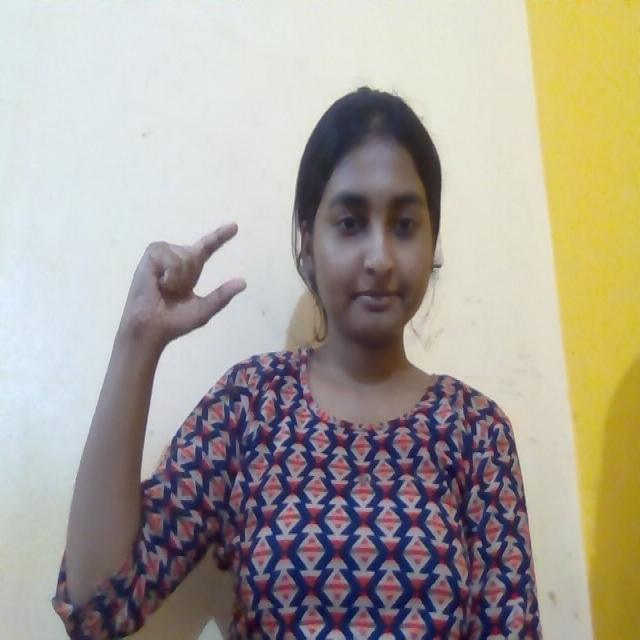No: (120, 188, 254, 351)
